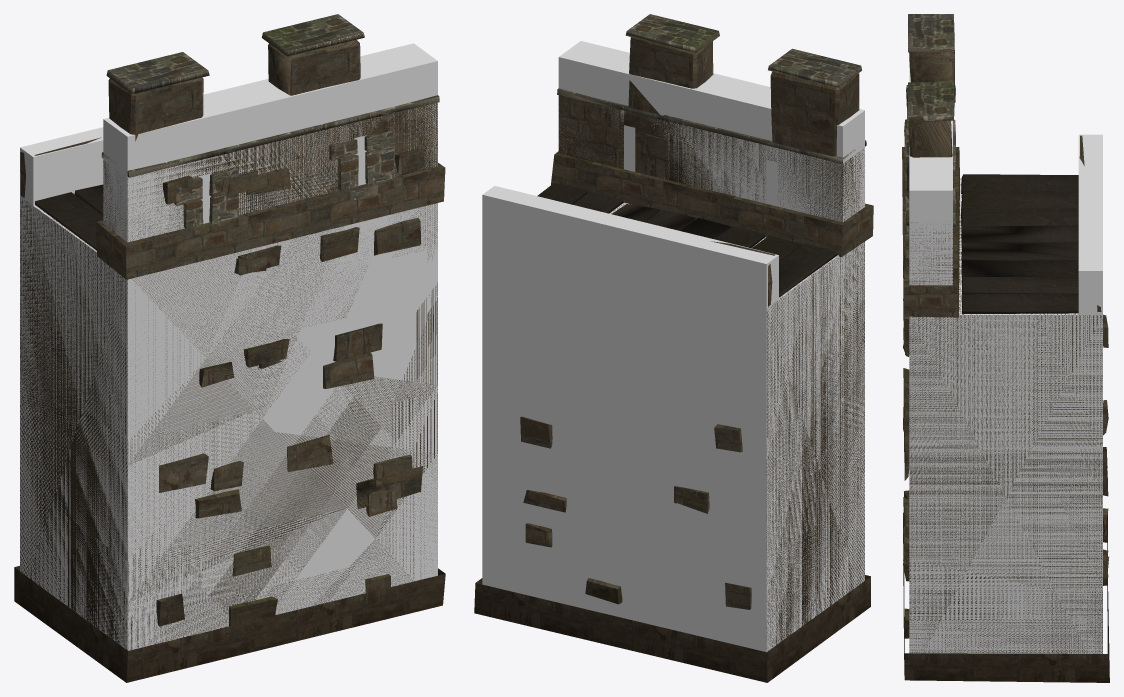
File: seg_curtain_wall_4m_shared_tex.glb
3 renders of one model, left to right at view 1: azimuth 30°, elevation 25°; view 2: azimuth 150°, elevation 25°; view 3: azimuth 270°, elevation 25°, orthographic. The views are drawn at different scales.
Parts seen in each view (by area): view 1: col_cw_core, lite_merge_00, cw_core_stones, col_cw_parapet, lite_merge_01, lite_merge_02, col_cw_kerb, cw_merlons; view 2: col_cw_core, lite_merge_00, col_cw_parapet, lite_merge_01, cw_core_stones, col_cw_kerb, lite_merge_02, cw_merlons; view 3: col_cw_core, lite_merge_00, cw_merlons, cw_core_stones, lite_merge_01, col_cw_parapet, lite_merge_02, col_cw_kerb.
Part boxes in pixels (x1,y1,x2,y2): col_cw_core: (20,196,437,650); lite_merge_00: (20,103,437,650); cw_core_stones: (14,217,445,682); col_cw_parapet: (103,43,437,242); lite_merge_01: (20,40,445,279); lite_merge_02: (101,14,439,229); col_cw_kerb: (20,127,103,205); cw_merlons: (35,184,103,250); col_cw_core: (482,202,864,652); lite_merge_00: (558,95,864,650); col_cw_parapet: (558,41,864,222); lite_merge_01: (551,37,873,306); cw_core_stones: (474,416,870,682); col_cw_kerb: (482,186,778,308); lite_merge_02: (557,14,866,163); cw_merlons: (537,183,837,297); col_cw_core: (909,178,1102,653); lite_merge_00: (909,179,1102,653); cw_merlons: (961,174,1078,314); cw_core_stones: (903,273,1109,682); lite_merge_01: (902,23,1101,317); col_cw_parapet: (909,62,952,285); lite_merge_02: (903,14,955,265); col_cw_kerb: (1078,134,1102,314).
Size of the model in its own units: 4.14 by 7.29 by 2.58.
3 materials, 3 textured.
